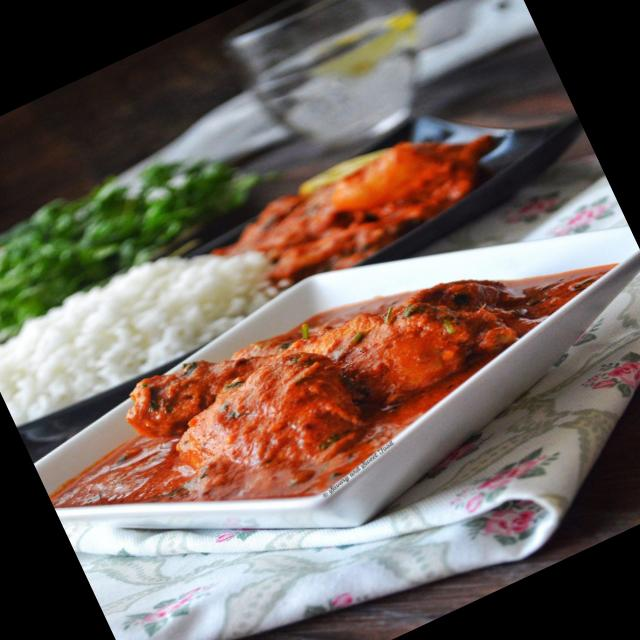chicken: (37, 179, 640, 597), (226, 92, 508, 279)
rice: (0, 195, 319, 448)
